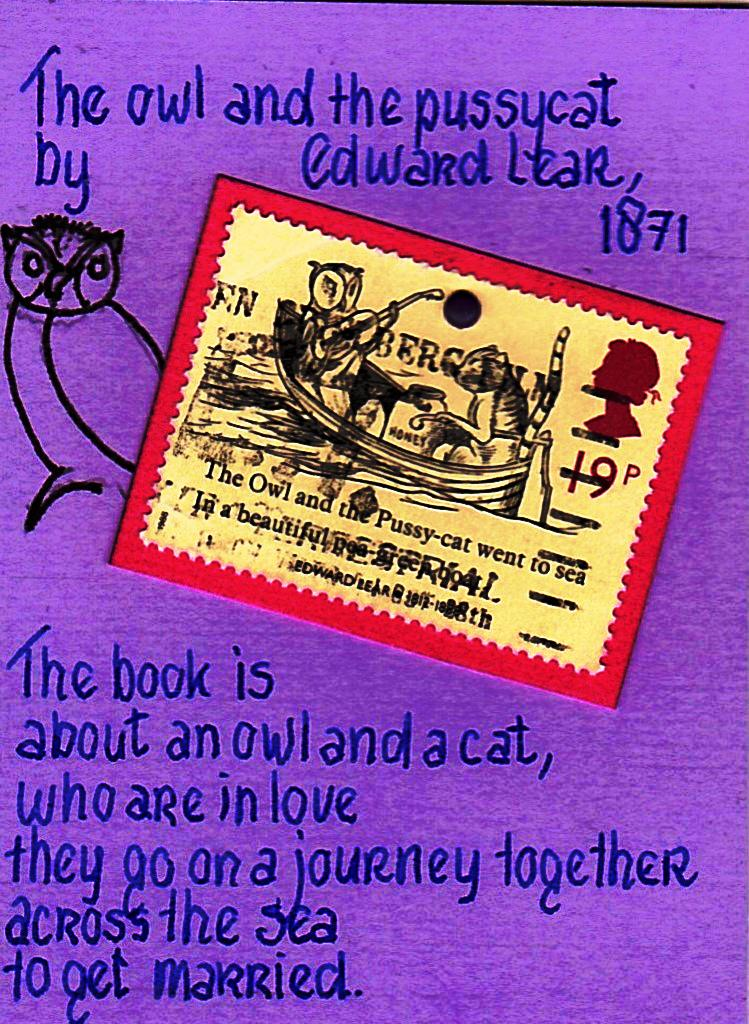Owl: (5, 214, 170, 536), (294, 256, 399, 412)
